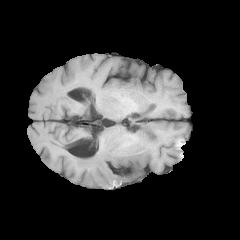glioma: (72, 122, 167, 188)
